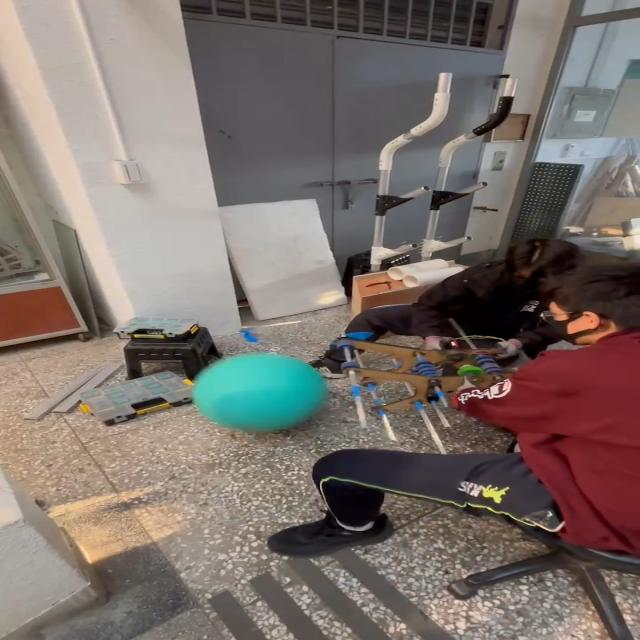ALGAE: (188, 352, 330, 434)
